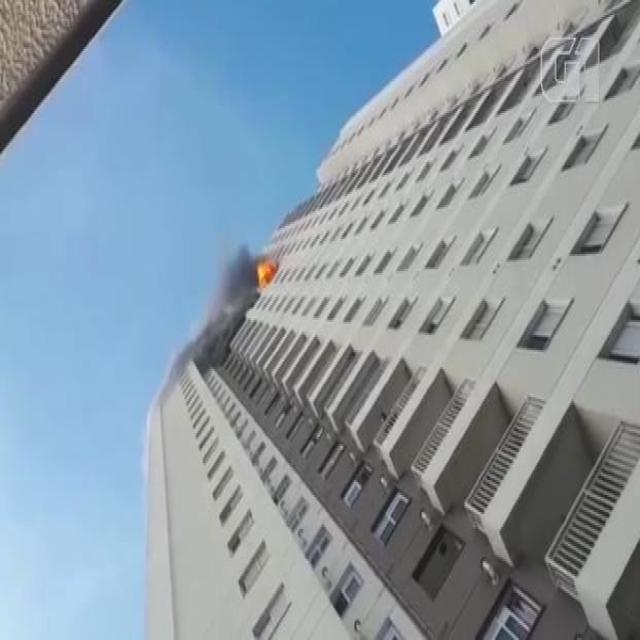Fire: (255, 256, 282, 294)
Smoke: (166, 242, 256, 368)
